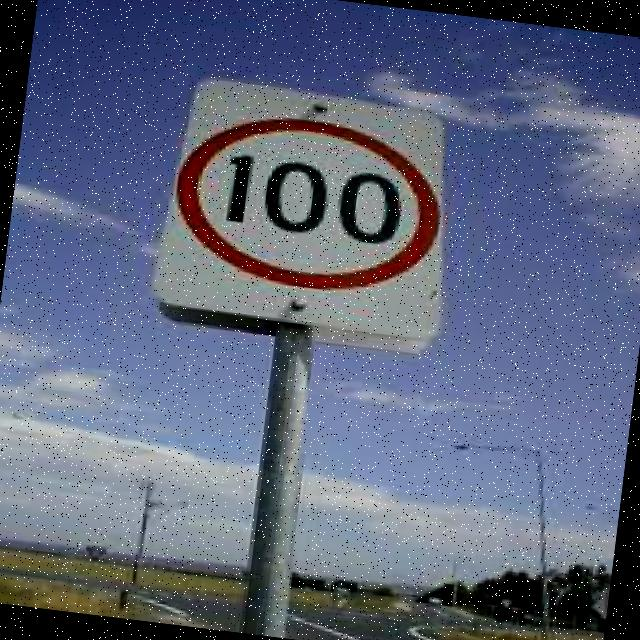Ograniczenie predkosci do 100: (164, 106, 452, 300)
